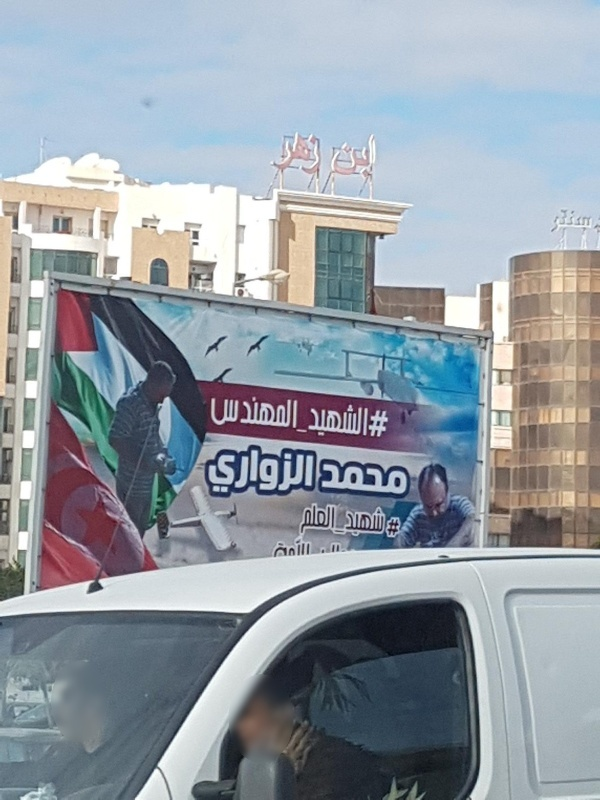text: (225, 441, 240, 502), (241, 441, 256, 502), (257, 441, 272, 502), (273, 441, 288, 502), (289, 441, 304, 502), (210, 441, 224, 502), (225, 390, 240, 441), (241, 390, 256, 441), (257, 390, 272, 441), (273, 390, 288, 441), (289, 390, 304, 441), (305, 390, 320, 441), (321, 390, 336, 441), (337, 390, 352, 441), (353, 390, 368, 441), (369, 390, 384, 441), (305, 441, 317, 502), (337, 133, 352, 179), (353, 133, 368, 179), (289, 131, 304, 177), (305, 131, 320, 177), (321, 457, 336, 500), (337, 457, 352, 500), (353, 457, 368, 500), (369, 457, 384, 500), (385, 457, 400, 500), (212, 390, 224, 441), (305, 503, 320, 542), (321, 503, 336, 542), (337, 503, 352, 542), (353, 503, 368, 542), (369, 503, 384, 542), (385, 503, 400, 542), (369, 133, 379, 179), (278, 131, 288, 177), (385, 390, 394, 441), (401, 457, 411, 500), (561, 209, 576, 236), (577, 209, 592, 236), (273, 535, 288, 560), (289, 535, 304, 560), (305, 535, 320, 560), (321, 535, 336, 560), (337, 535, 352, 560), (551, 209, 560, 236), (353, 535, 361, 560), (321, 131, 324, 177), (401, 503, 403, 542), (593, 209, 595, 236), (319, 457, 320, 500), (303, 503, 304, 542)
